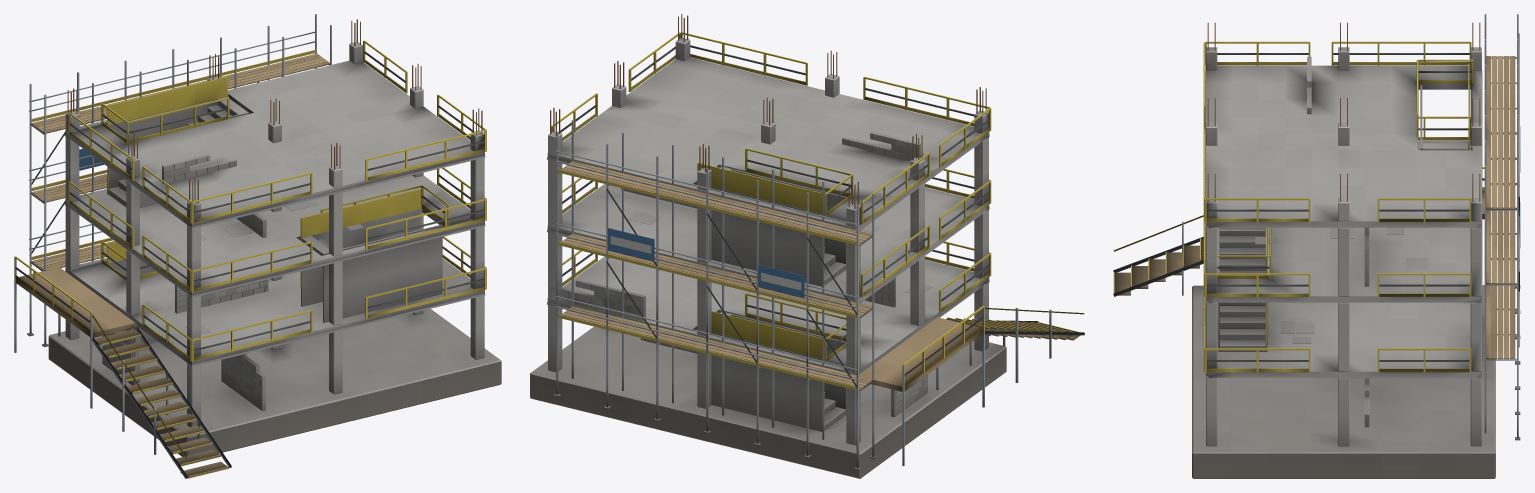
The model's file is tower2.glb.
3 views of the same model, side by side, from view 1: azimuth 30°, elevation 25°; view 2: azimuth 150°, elevation 25°; view 3: azimuth 270°, elevation 25° (orthographic). The views are drawn at different scales.
Visible parts, largest first — view 1: tower2_0, tower2_1; view 2: tower2_0, tower2_1; view 3: tower2_0, tower2_1.
Boxes of the visible parts, left/top/right/bottom form: tower2_0: left=14, top=14, right=501, bottom=478; tower2_1: left=29, top=40, right=500, bottom=461; tower2_0: left=530, top=14, right=1084, bottom=478; tower2_1: left=530, top=57, right=1071, bottom=478; tower2_0: left=1113, top=14, right=1520, bottom=478; tower2_1: left=1139, top=33, right=1519, bottom=478.
Size of the model in its own units: 19.25 by 14.2 by 17.7.
